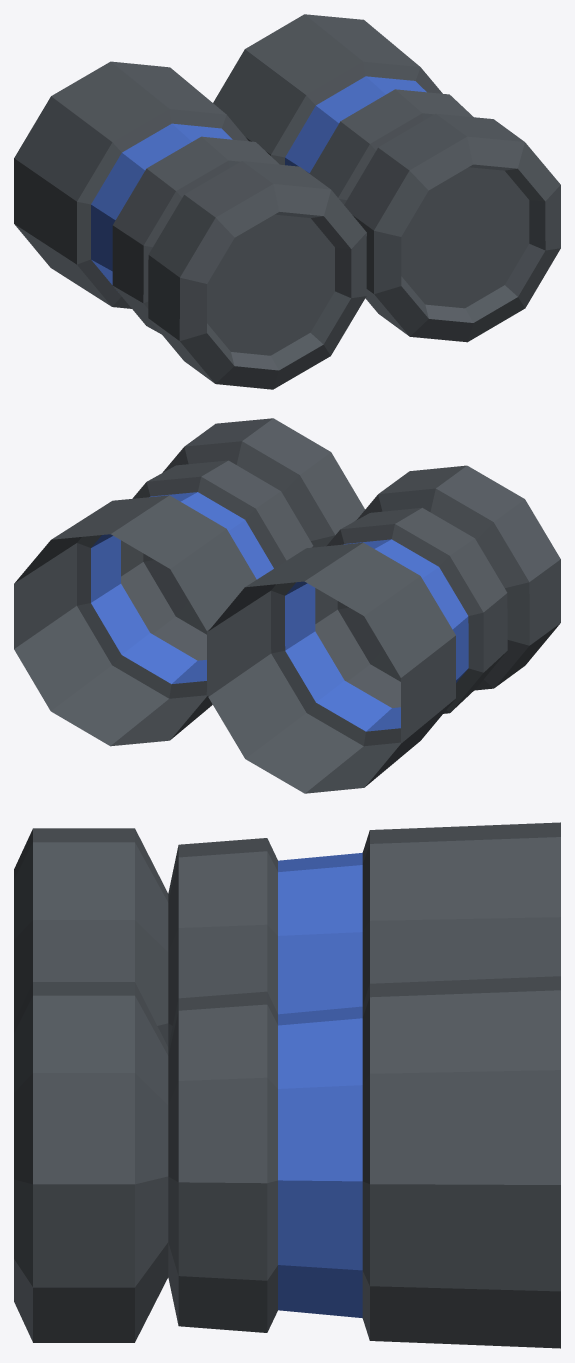
File: Personal_Vehicle_02_Head_Lights_Blue.fbx
3 renders of one model, top to bottom at view 1: azimuth 30°, elevation 25°; view 2: azimuth 150°, elevation 25°; view 3: azimuth 270°, elevation 25°, orthographic. The views are drawn at different scales.
Visible parts, largest first — view 1: Personal_Vehicle_02_Head_Lights_Blue; view 2: Personal_Vehicle_02_Head_Lights_Blue; view 3: Personal_Vehicle_02_Head_Lights_Blue.
Part boxes in pixels (x1,y1,x2,y2): Personal_Vehicle_02_Head_Lights_Blue: (14,14,560,389); Personal_Vehicle_02_Head_Lights_Blue: (14,418,560,793); Personal_Vehicle_02_Head_Lights_Blue: (14,822,560,1348).
Size of the model in its own units: 38.22 by 20.02 by 28.86.
2 materials, 2 textured.
